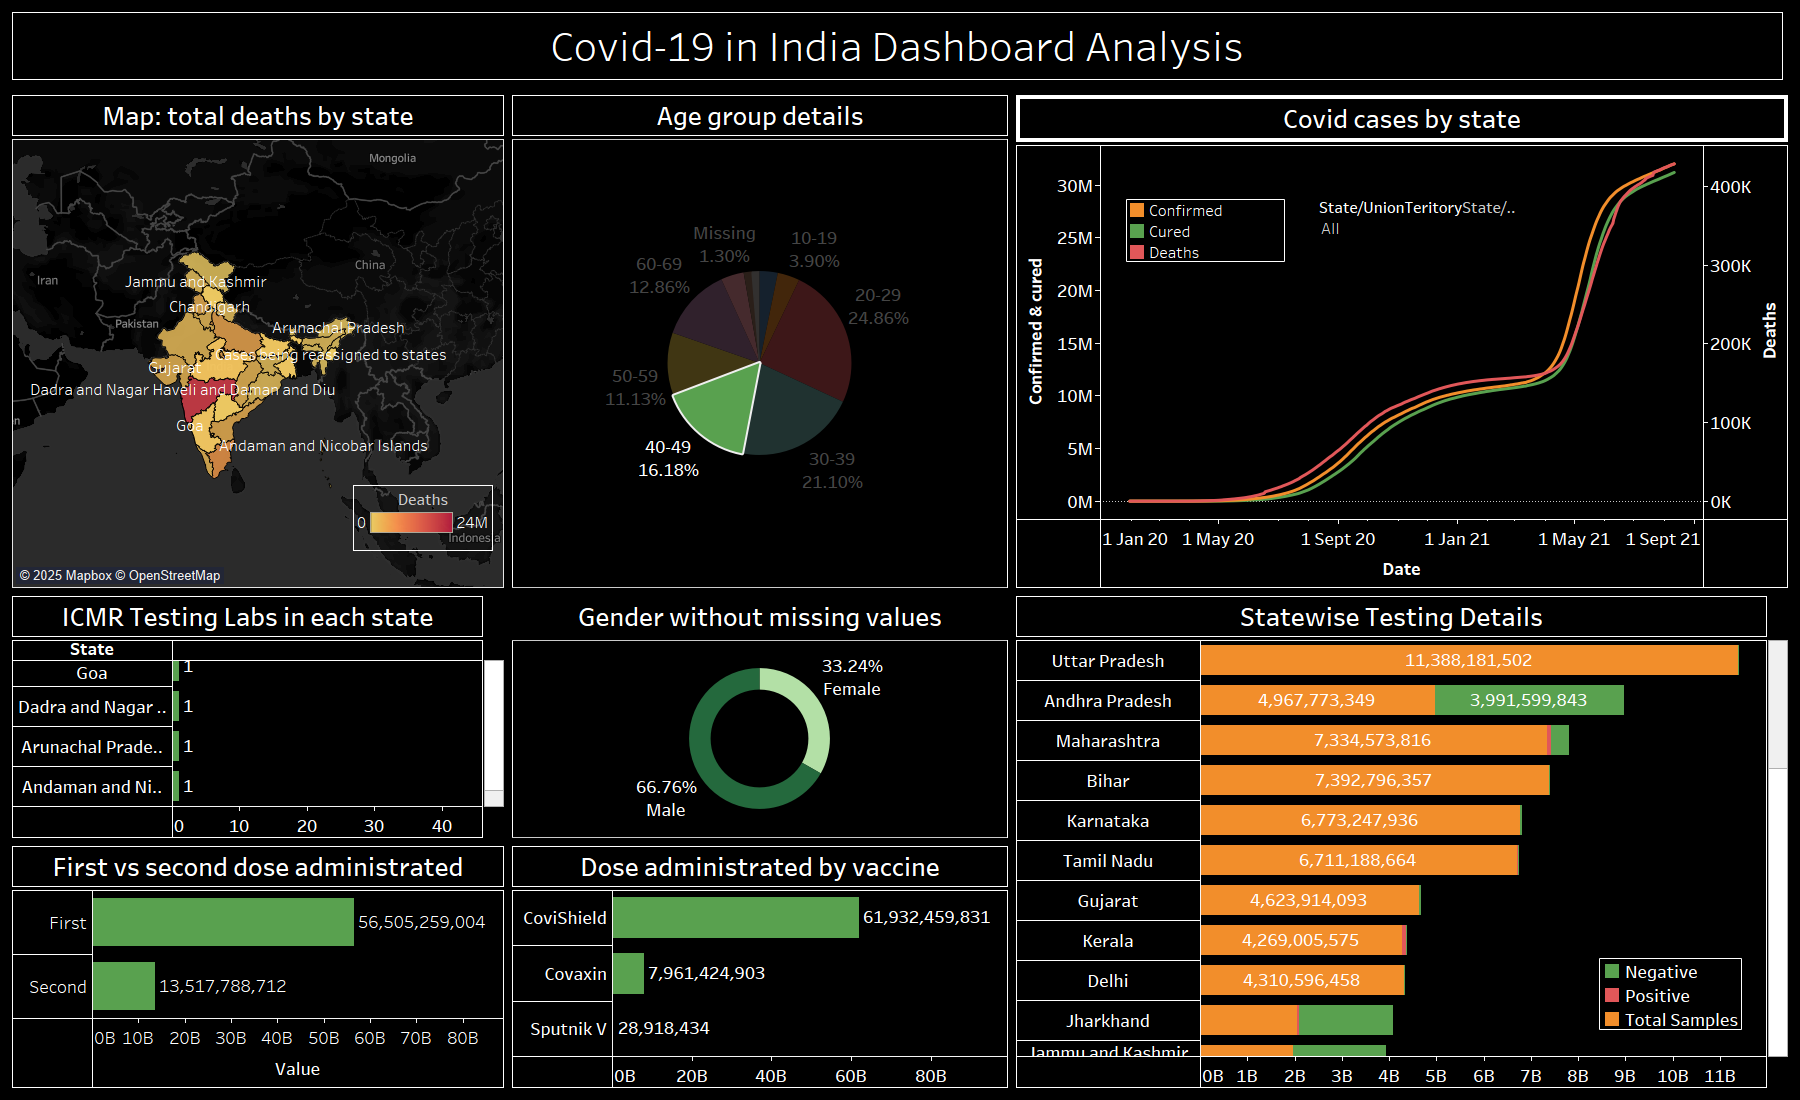

The dashboard page shown, as its layout file describes it:
{"tool":"tableau","page":{"name":"Dashboard 1","canvas":[1800,1100],"ordinal":0},"visuals":[{"type":"worksheet","title":"Title","mark":"Automatic","box":[8,8,1784,83]},{"type":"worksheet","title":"Map: total deaths by state","mark":"Automatic","box":[8,91,500,500.5]},{"type":"worksheet","title":"Age group details","mark":"Pie","rows":["Calculation_712131759193051139","Calculation_712131759193300997"],"box":[508,91,504,500.5]},{"type":"worksheet","title":"Covid cases by state","mark":"Automatic","rows":["Deaths"],"cols":["Date"],"box":[1012,91,780,501]},{"type":"filter","title":"Covid cases by state","param":"[federated.01krfy203lo3mh1dzifgc1yzntw2].[none:State/UnionTerritory:nk]","box":[1319,196,204,64]},{"type":"legend","title":"Covid cases by state","param":"[federated.01krfy203lo3mh1dzifgc1yzntw2].[:Measure Names]","box":[1126,199,159,63]},{"type":"legend","title":"Map: total deaths by state","param":"[federated.01krfy203lo3mh1dzifgc1yzntw2].[sum:Deaths:qk]","box":[353,485,140,88]},{"type":"worksheet","title":"ICMR Testing Labs in each state","mark":"Automatic","rows":["state"],"cols":["lab"],"box":[8,591.5,500,250.2]},{"type":"worksheet","title":"Gender without missing values","mark":"Pie","rows":["Calculation_712131759197151239","Calculation_712131759197249545"],"box":[508,591.5,504,250.2]},{"type":"worksheet","title":"Statewise Testing Details","mark":"Automatic","rows":["State"],"box":[1012,592,780,500]},{"type":"worksheet","title":"First vs second dose administrated","mark":"Automatic","box":[8,841.8,500,250.2]},{"type":"worksheet","title":"Dose administrated by vaccine","mark":"Automatic","box":[508,841.8,504,250.2]},{"type":"legend","title":"Statewise Testing Details","param":"[federated.0wwwjws0hovbav1gyvjnn125rdql].[:Measure Names]","box":[1599,958,143,72]}]}

Visuals, with their boxes in screenshot pixels (x1, y1, x2, y2), scaled from the page's 1800x1100 canvas onto the 1800x1100 screenshot:
"Title" worksheet: (left=8, top=8, right=1792, bottom=91)
"Map: total deaths by state" worksheet: (left=8, top=91, right=508, bottom=592)
"Age group details" worksheet (Pie marks): (left=508, top=91, right=1012, bottom=592)
"Covid cases by state" worksheet: (left=1012, top=91, right=1792, bottom=592)
"Covid cases by state" filter: (left=1319, top=196, right=1523, bottom=260)
"Covid cases by state" legend: (left=1126, top=199, right=1285, bottom=262)
"Map: total deaths by state" legend: (left=353, top=485, right=493, bottom=573)
"ICMR Testing Labs in each state" worksheet: (left=8, top=592, right=508, bottom=842)
"Gender without missing values" worksheet (Pie marks): (left=508, top=592, right=1012, bottom=842)
"Statewise Testing Details" worksheet: (left=1012, top=592, right=1792, bottom=1092)
"First vs second dose administrated" worksheet: (left=8, top=842, right=508, bottom=1092)
"Dose administrated by vaccine" worksheet: (left=508, top=842, right=1012, bottom=1092)
"Statewise Testing Details" legend: (left=1599, top=958, right=1742, bottom=1030)
